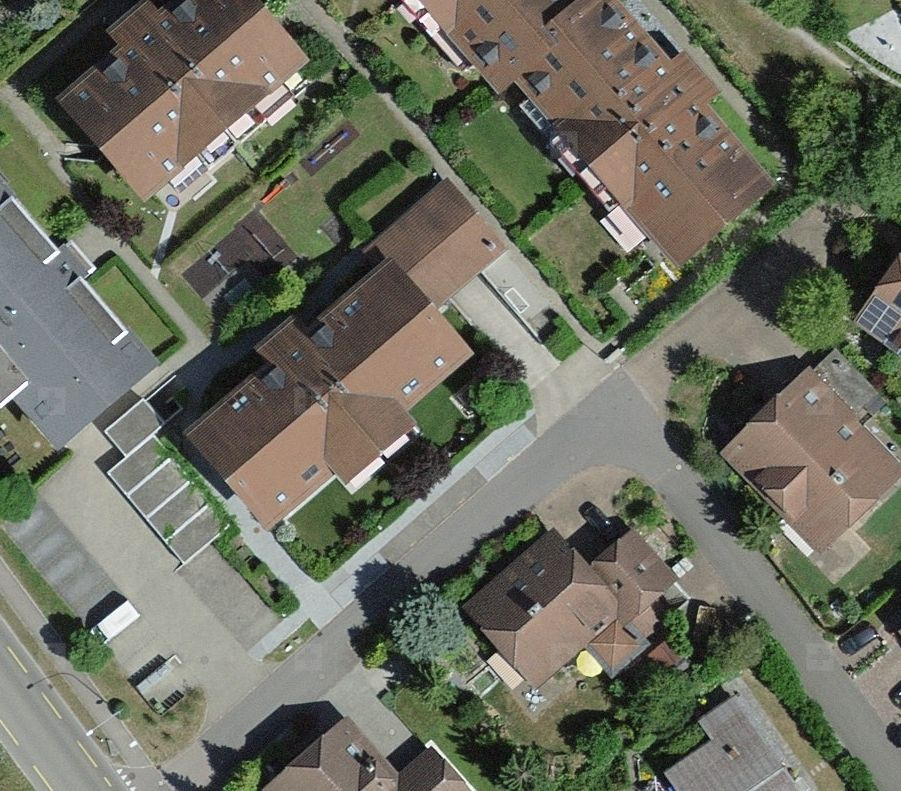solar: (856, 295, 901, 342)
